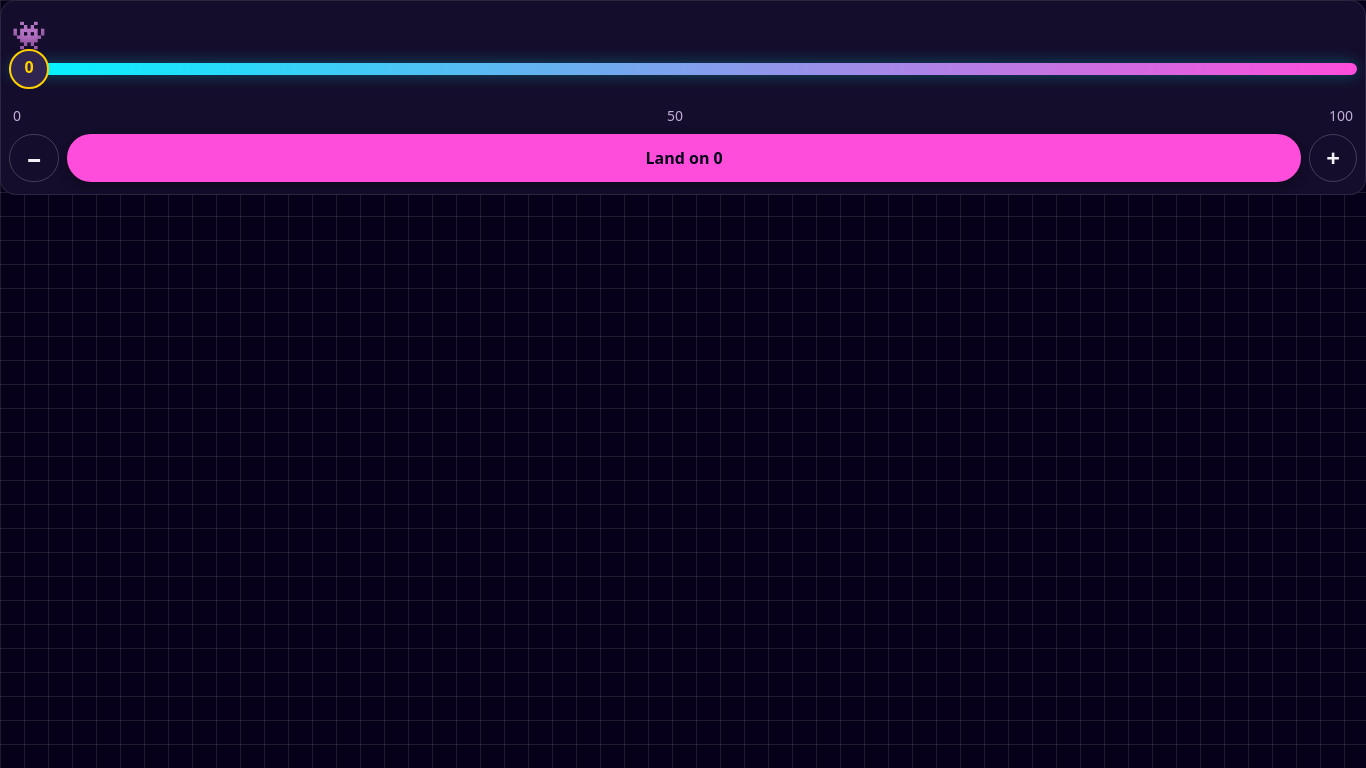
Test: BeamSlider › nudges by the beam’s own step, not by one
What coordinates should you click on to do the following:
click the button named "One step on"
I would click on:
 (1333, 158)
Its box is x1=1309 y1=134 x2=1357 y2=182.
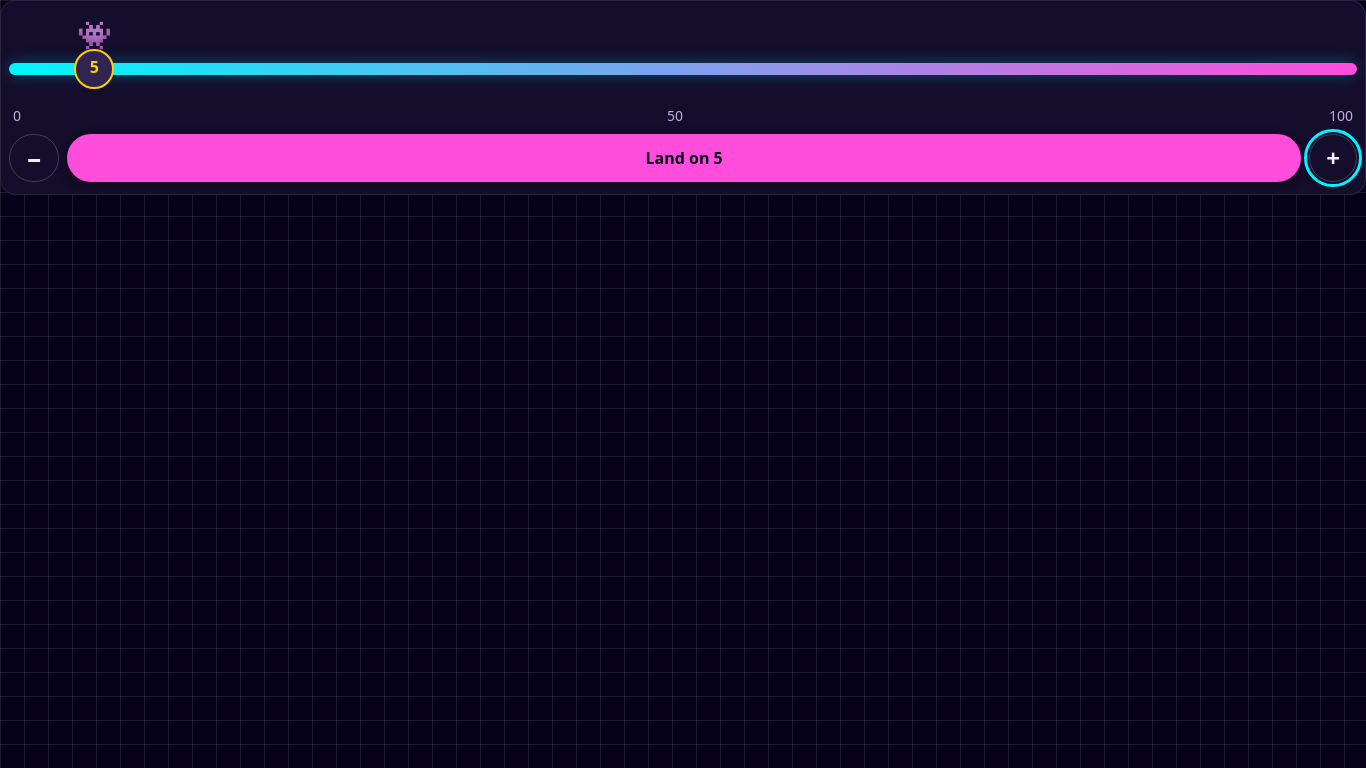
Expected: the button "Land on 5" is shown, x1=67 y1=134 x2=1301 y2=182
